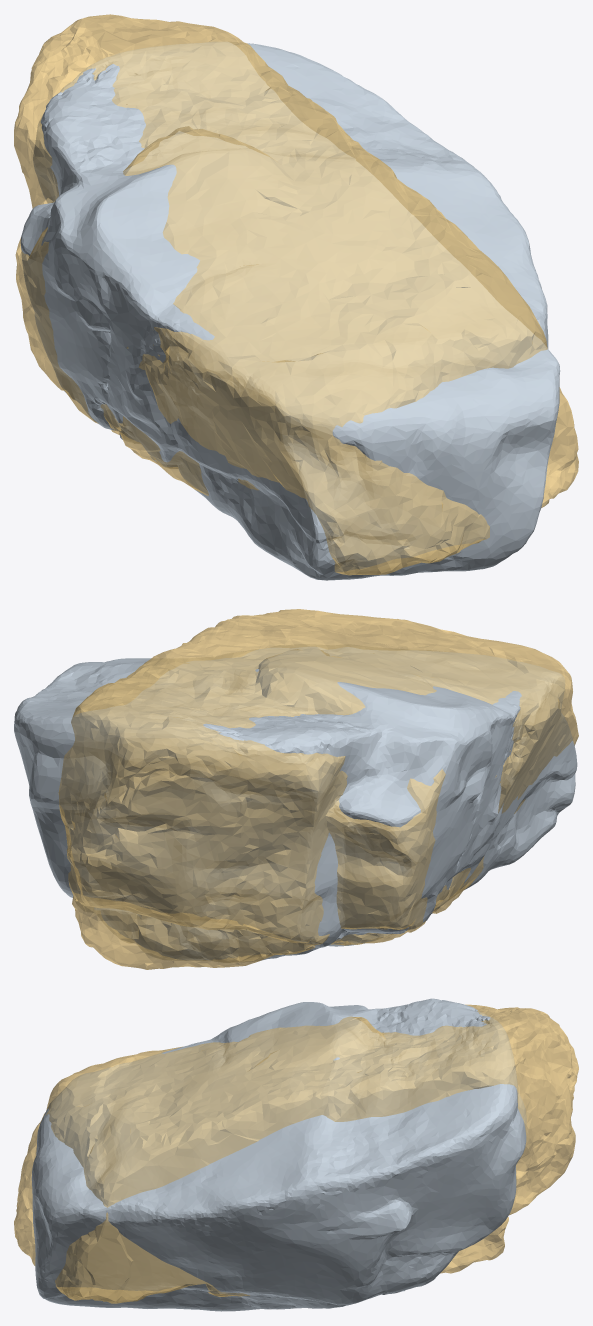
3 views of the same model, one above another, from view 1: azimuth 30°, elevation 25°; view 2: azimuth 150°, elevation 25°; view 3: azimuth 270°, elevation 25° (orthographic). The views are drawn at different scales.
Visible parts, largest first — view 1: imagination, truth; view 2: imagination, truth; view 3: imagination, truth.
Part boxes in pixels (<box>): imagination: <box>20,42,560,580</box>; truth: <box>14,14,578,575</box>; imagination: <box>14,644,577,962</box>; truth: <box>58,609,578,969</box>; imagination: <box>31,998,526,1311</box>; truth: <box>14,1004,578,1303</box>.
Bounding box in the file's own units: 0.7834 × 0.5987 × 1.2.
